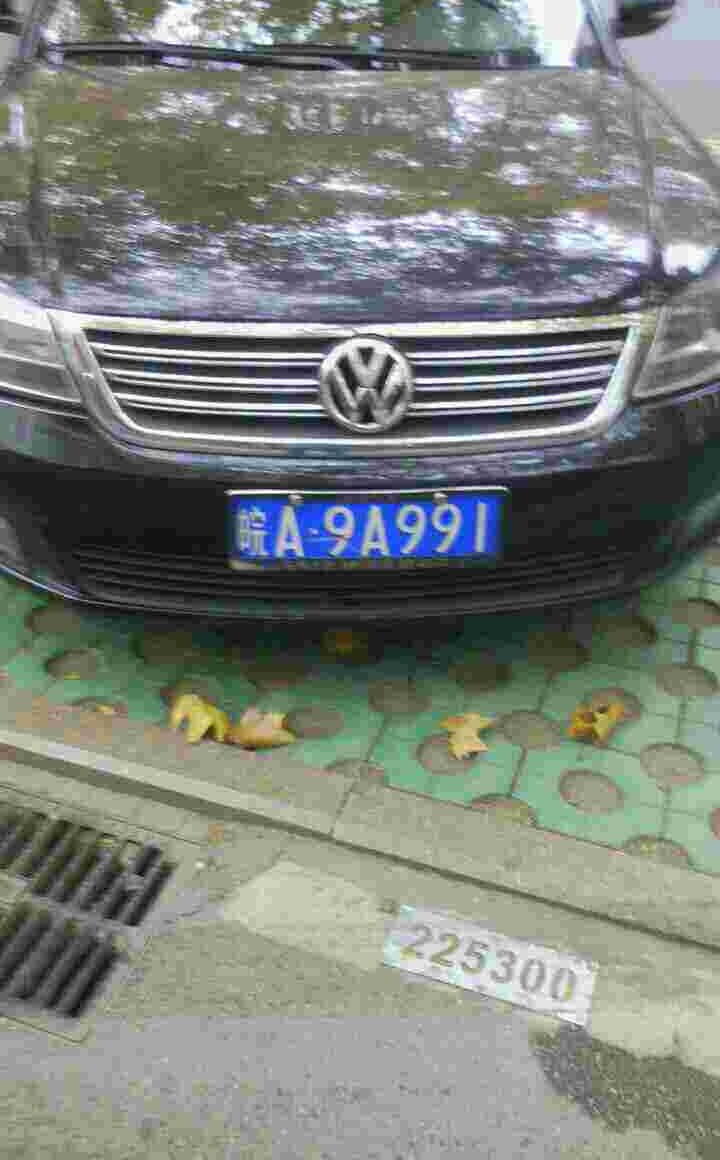plate: (232, 485, 513, 575)
